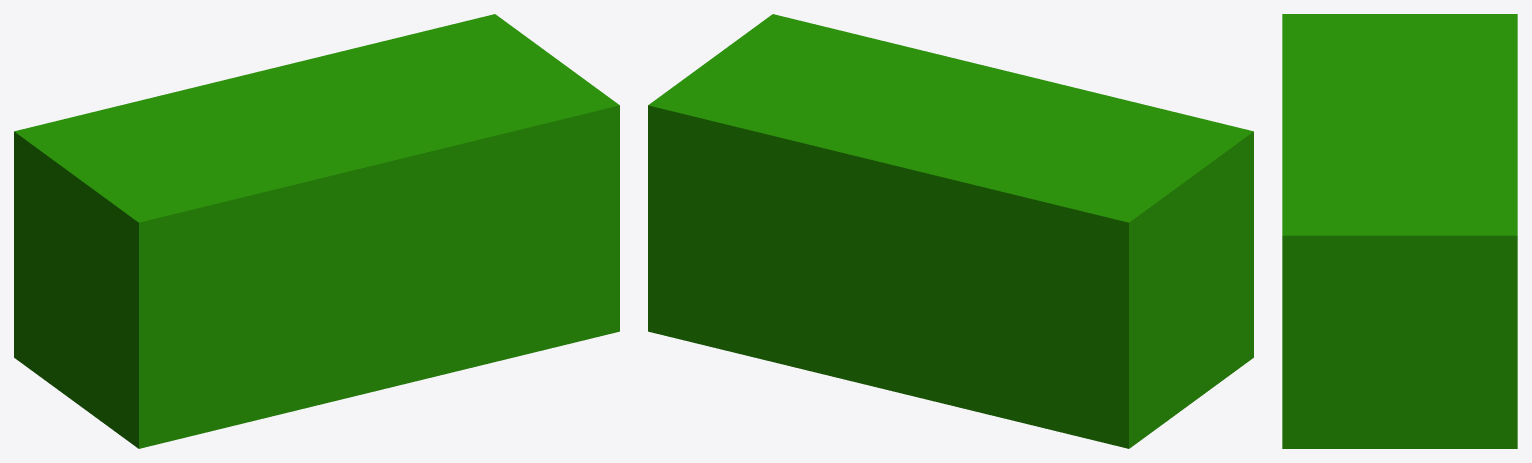
File: balok.glb
3 views of the same model, side by side, from view 1: azimuth 30°, elevation 25°; view 2: azimuth 150°, elevation 25°; view 3: azimuth 270°, elevation 25° (orthographic). The views are drawn at different scales.
Parts seen in each view (by area): view 1: Cube, Cube.001; view 2: Cube, Cube.001; view 3: Cube, Cube.001.
Part boxes in pixels (x1,y1,x2,y2): Cube: (14,14,619,448); Cube.001: (147,46,487,416); Cube: (648,14,1253,448); Cube.001: (780,46,1120,416); Cube: (1282,14,1517,448); Cube.001: (1282,75,1517,174).
Bounding box in the file's own units: 4.45 × 2 × 2.
